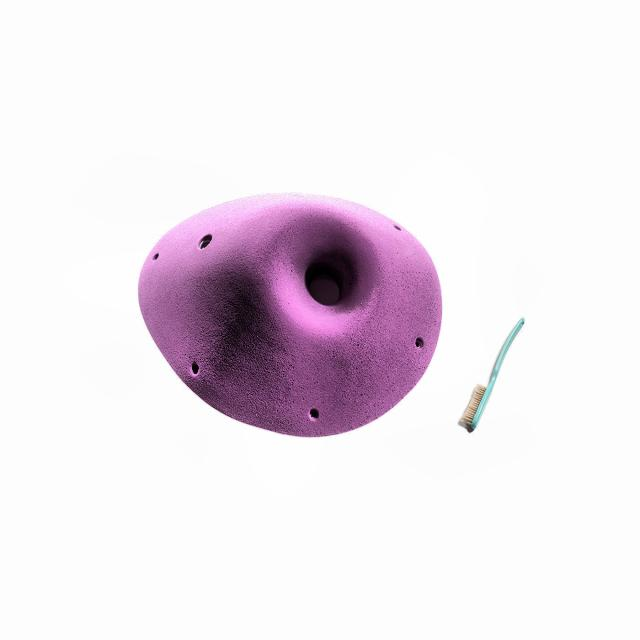Hold: (136, 190, 453, 438)
